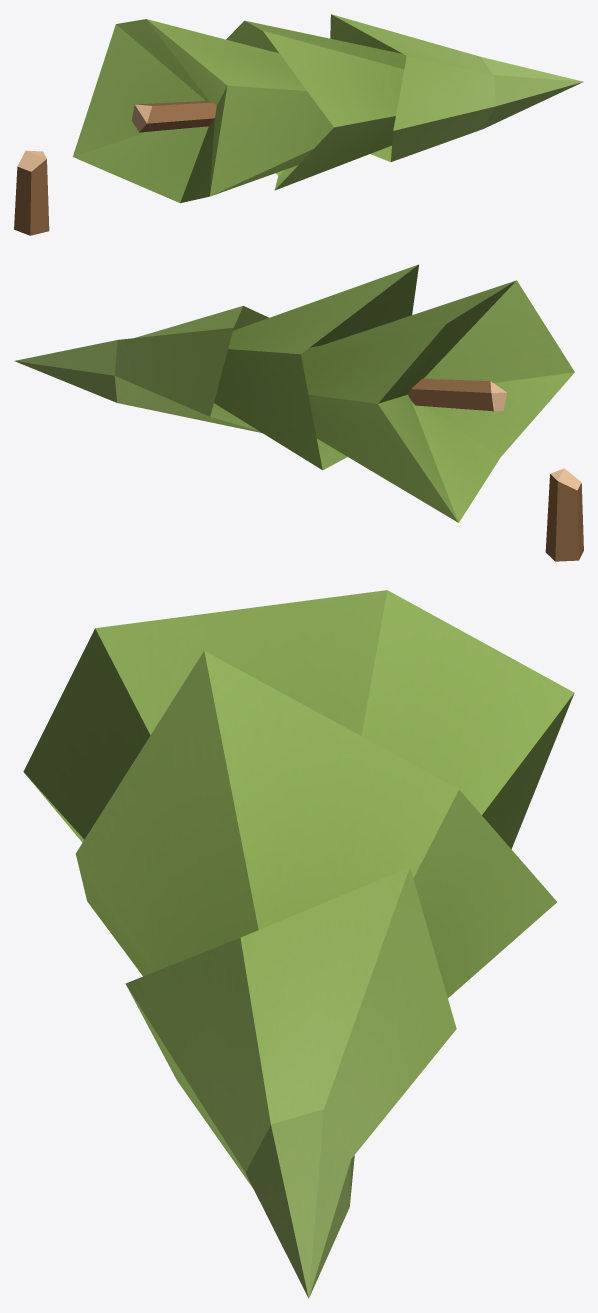
The model's file is Pine_Tree_crk_s_02_LOD.fbx.
3 renders of one model, top to bottom at view 1: azimuth 30°, elevation 25°; view 2: azimuth 150°, elevation 25°; view 3: azimuth 270°, elevation 25°, orthographic. The views are drawn at different scales.
Visible parts, largest first — view 1: Pine_Tree_crk_s_02_LOD0; view 2: Pine_Tree_crk_s_02_LOD0; view 3: Pine_Tree_crk_s_02_LOD0.
Part boxes in pixels (box(x1,y1,x2,y2)): Pine_Tree_crk_s_02_LOD0: box(14, 14, 583, 235); Pine_Tree_crk_s_02_LOD0: box(14, 264, 583, 561); Pine_Tree_crk_s_02_LOD0: box(23, 590, 574, 1298).
Size of what is drawn, in the model's own units: 357 by 117 by 156.
